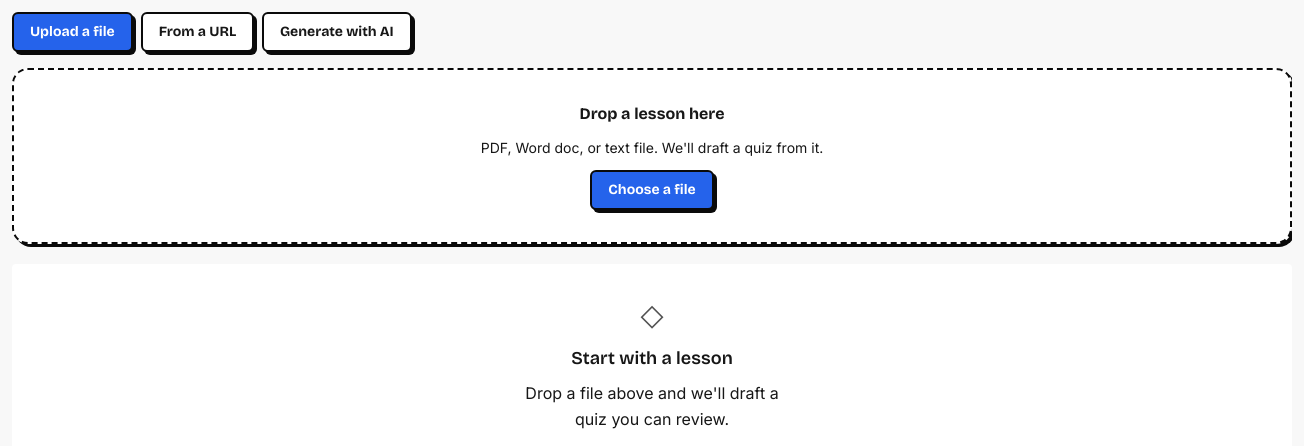
ContentStudioTabs › switches to the URL tab on click
The width and height of the screenshot is (1304, 446).
Click the tab "From a URL". click: (197, 32)
box: [141,12,254,52]
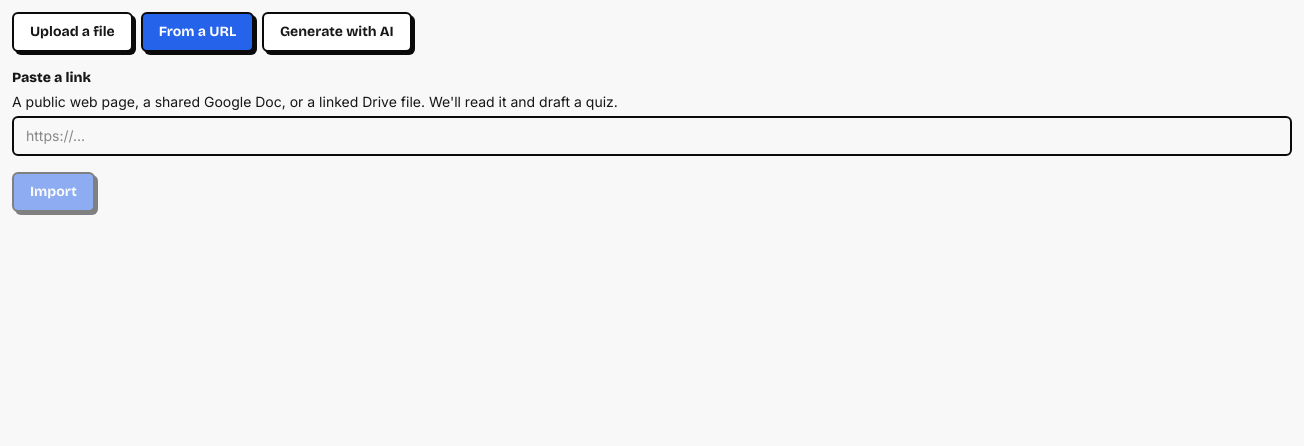
Result: the field named "link or web address" is shown at [12,116,1292,156]
